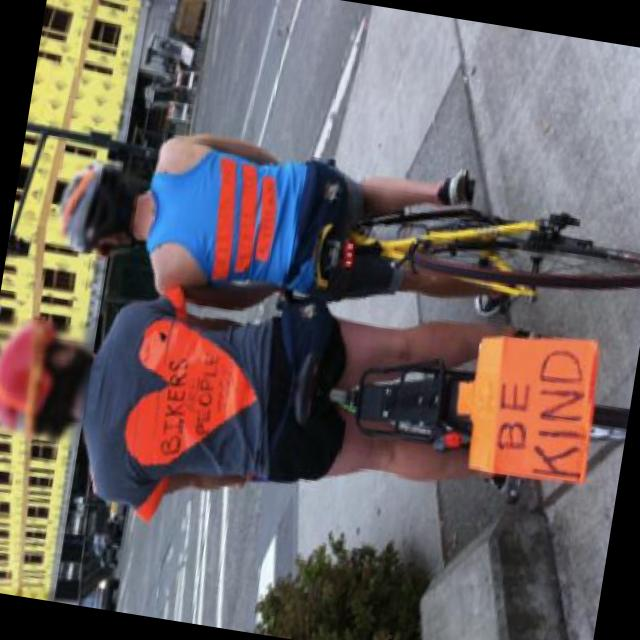With Helmet: (0, 311, 97, 445), (50, 153, 146, 259)
